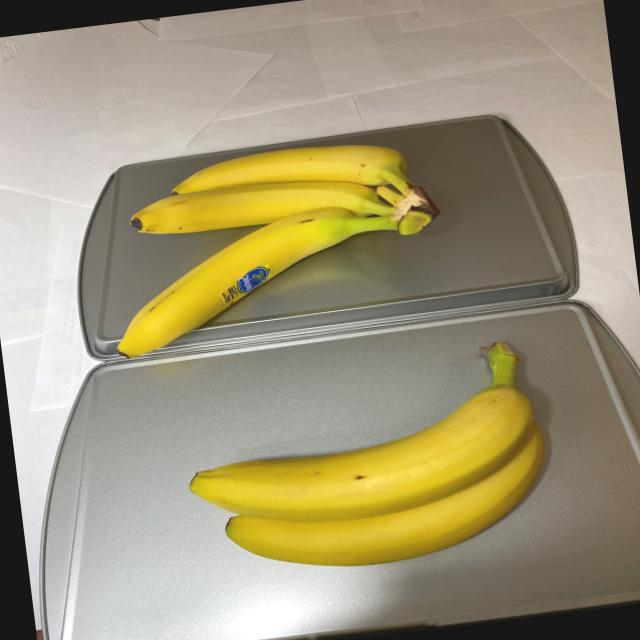banana: (166, 332, 567, 588), (86, 131, 456, 364)
